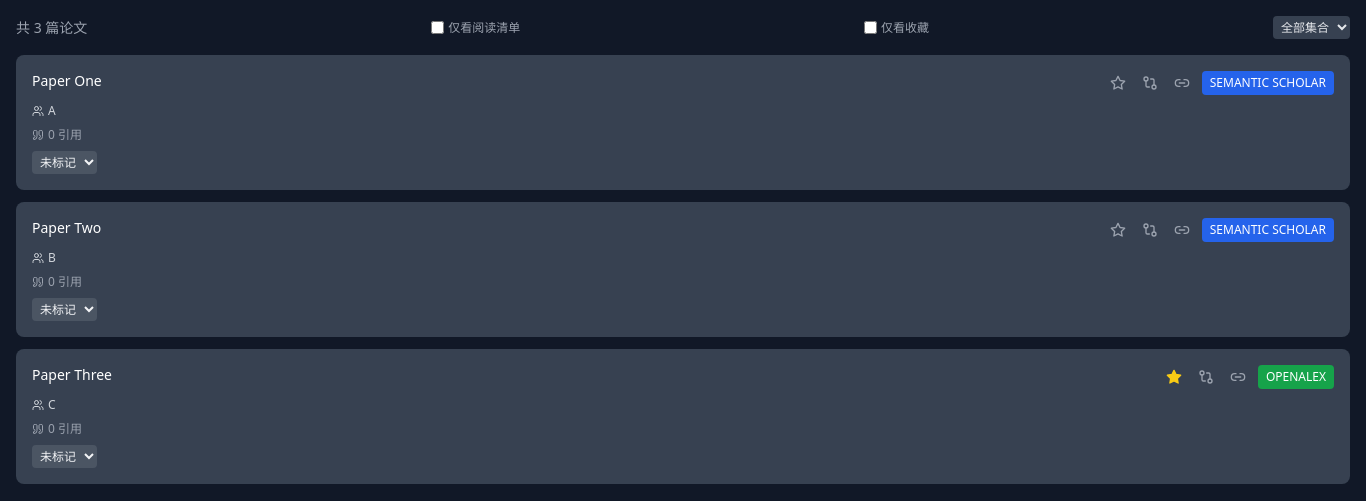
it: PaperList › matches favorites stored under the canonical DOI key
Expected: the button named "取消收藏" is shown, [1162,365,1186,389]
Click the checkbox labelled "仅看收藏": (871, 28) [864,21,877,34]
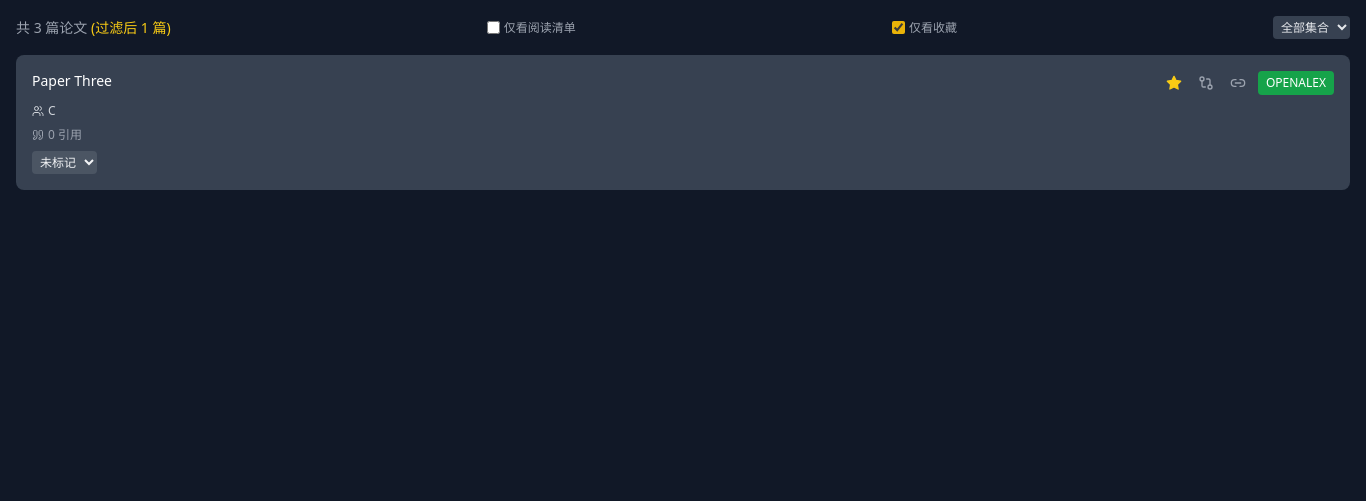
Expected: the heading "Paper Three" is shown, [32,71,112,90]
Expected: the heading "Paper One" is gone
